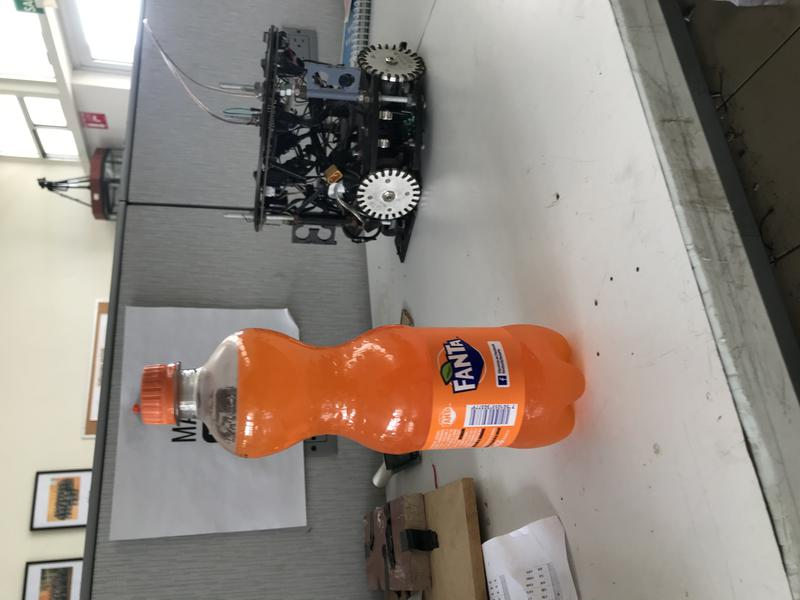fanta: (139, 324, 587, 460)
